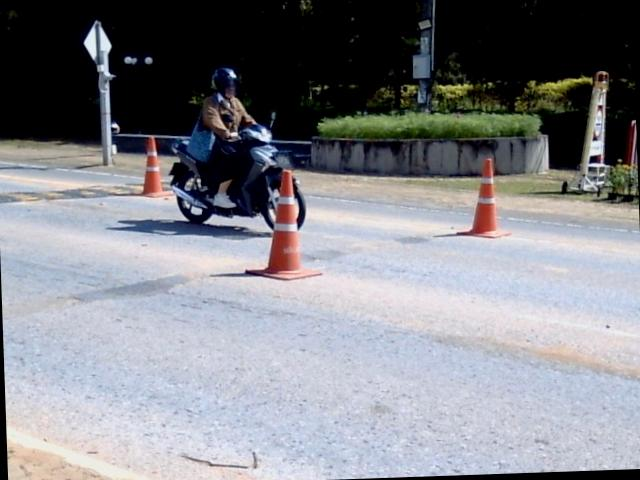motor: (169, 124, 289, 229)
person: (200, 68, 256, 208), (210, 66, 243, 100)
